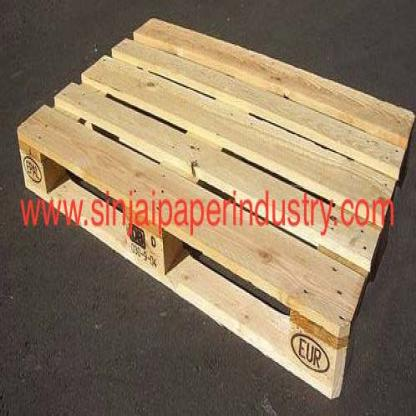BoxFace: (15, 13, 415, 404)
